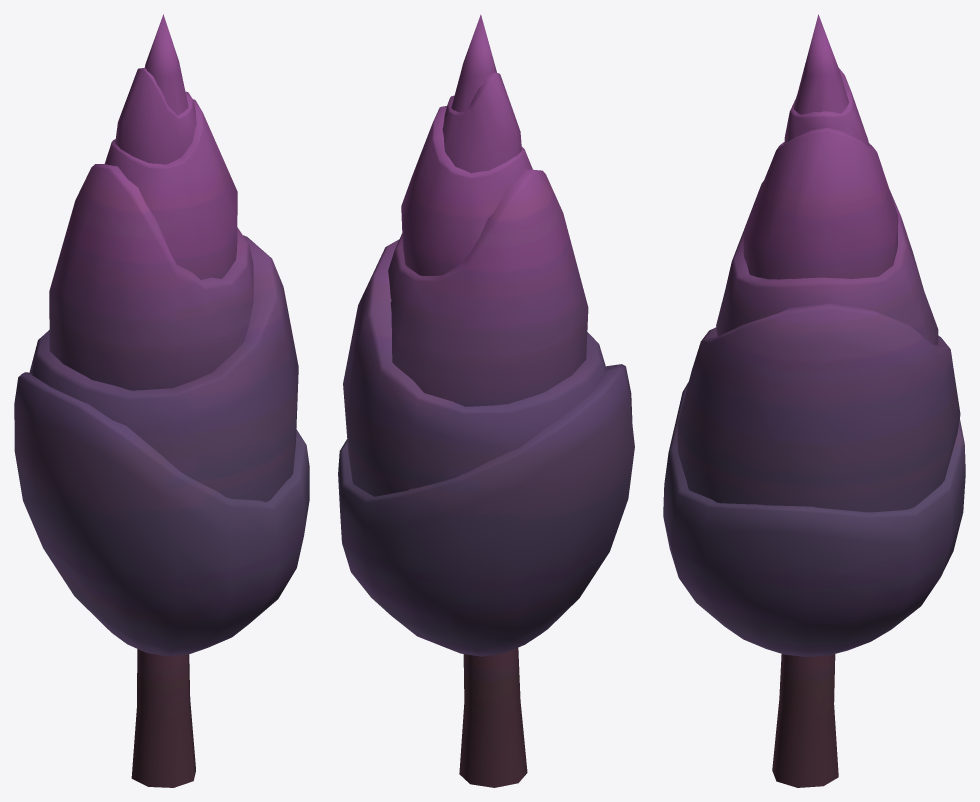
Rendered from Tree_3.fbx.
3 views of the same model, side by side, from view 1: azimuth 30°, elevation 25°; view 2: azimuth 150°, elevation 25°; view 3: azimuth 270°, elevation 25° (orthographic).
Visible parts, largest first — view 1: Tree_3; view 2: Tree_3; view 3: Tree_3.
Part boxes in pixels (box(x1,y1,x2,y2)): Tree_3: box(14, 14, 309, 787); Tree_3: box(338, 14, 634, 787); Tree_3: box(663, 14, 965, 787).
Bounding box in the file's own units: 145 × 408 × 147.
